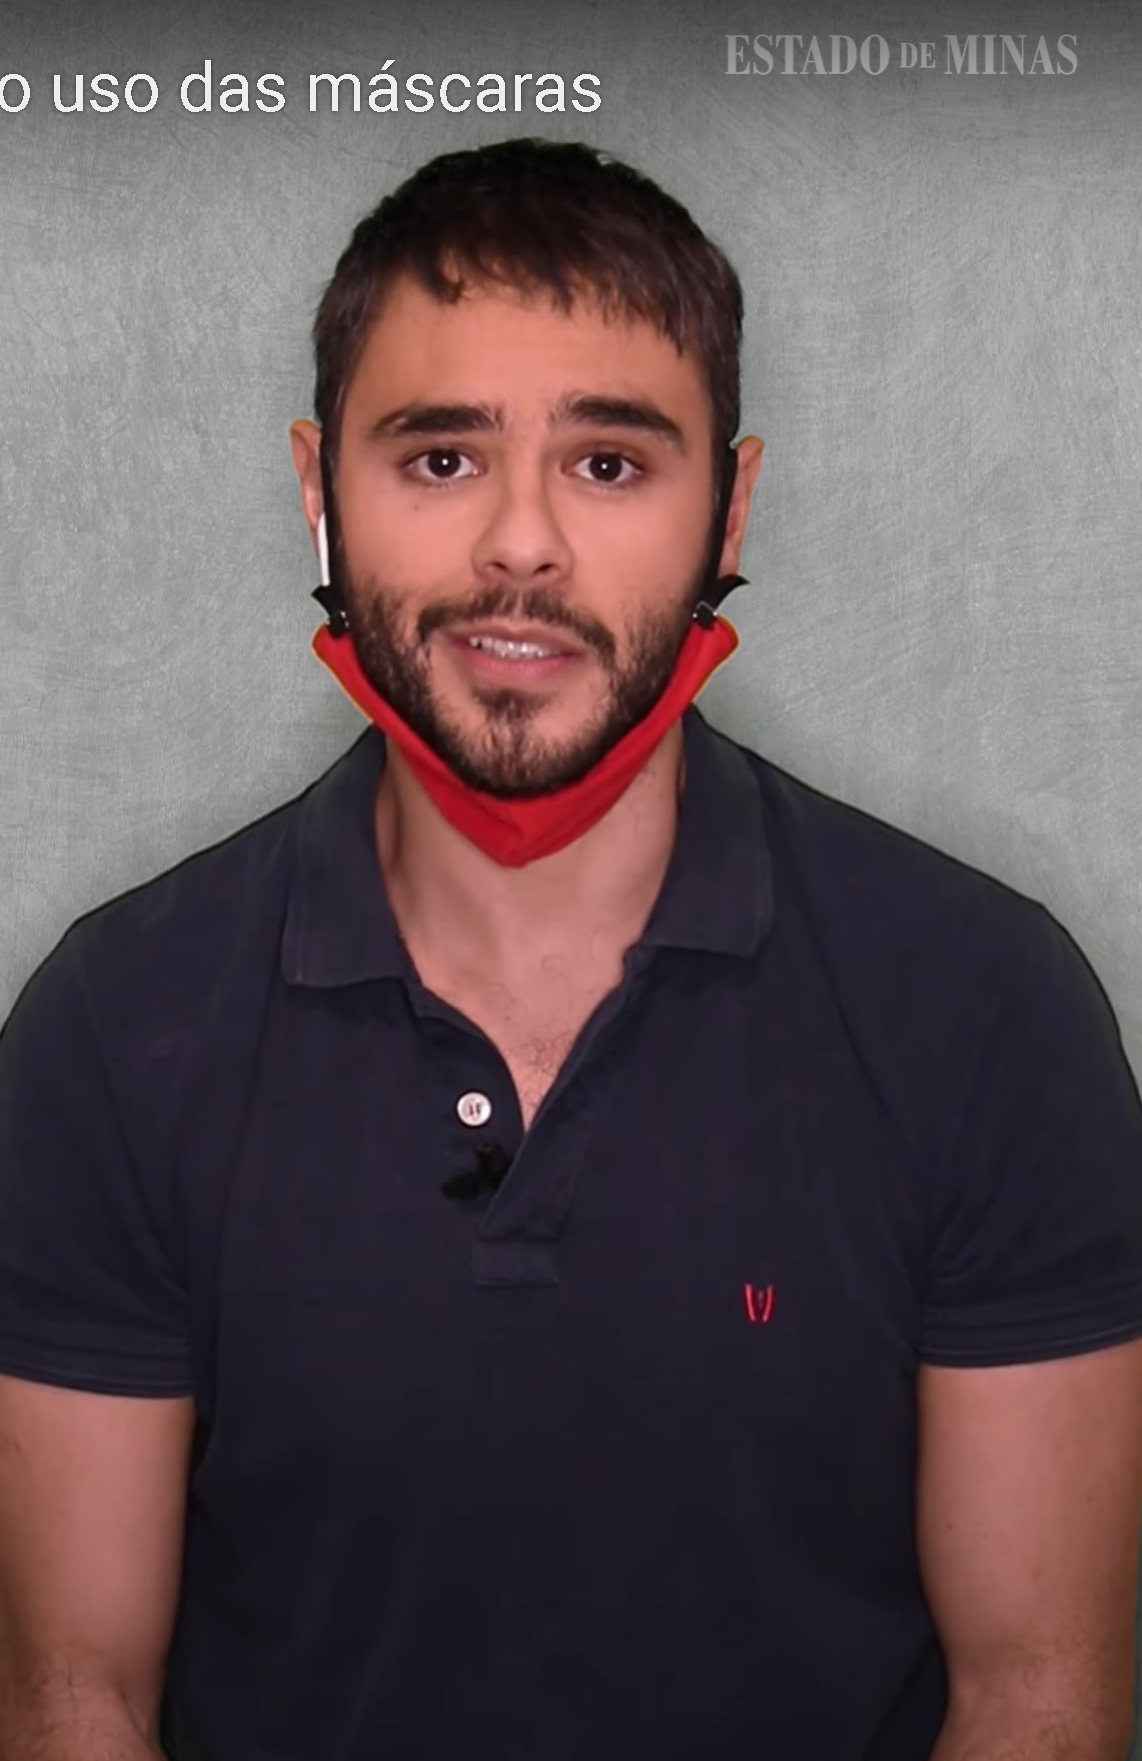mask_weared_incorrect: (272, 246, 796, 917)
